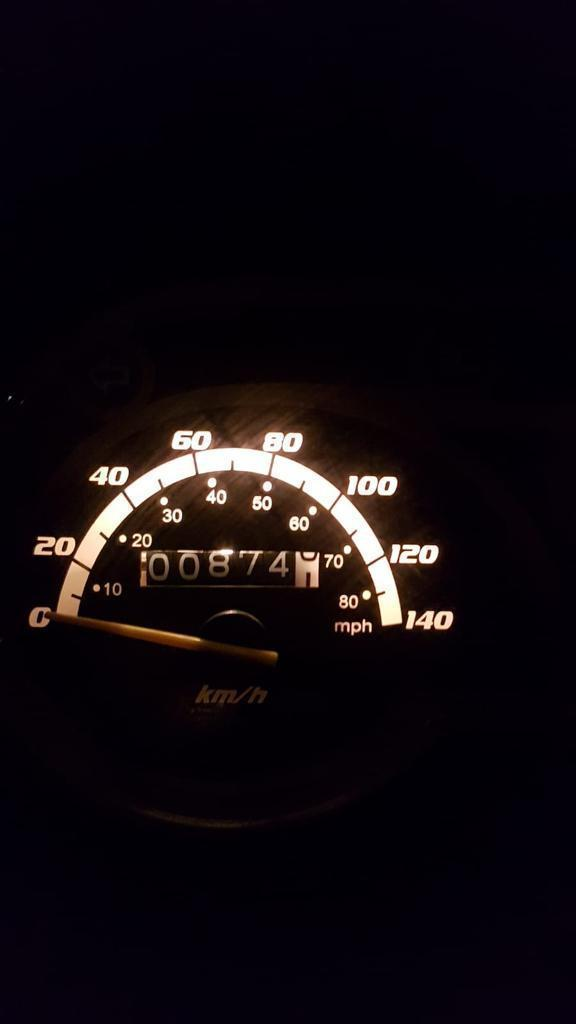0: (148, 553, 170, 581), (178, 553, 200, 580)
1: (303, 570, 311, 591)
4: (267, 550, 289, 578)
7: (238, 549, 259, 576)
8: (208, 550, 230, 578)
odometer: (136, 548, 321, 591)
